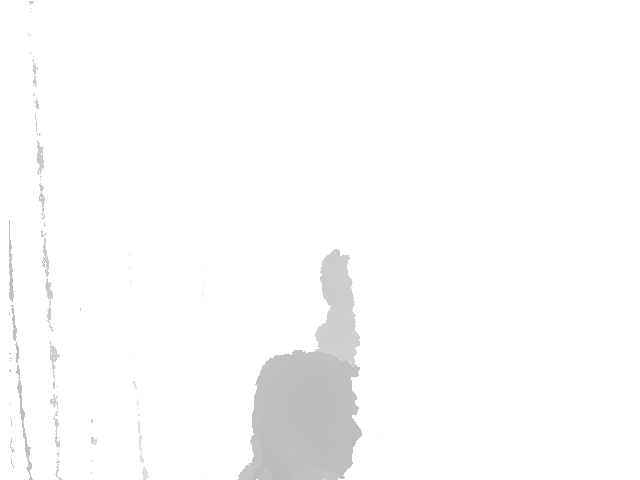hand: (315, 249, 357, 328)
head: (250, 350, 364, 480)
person: (238, 247, 364, 480)
